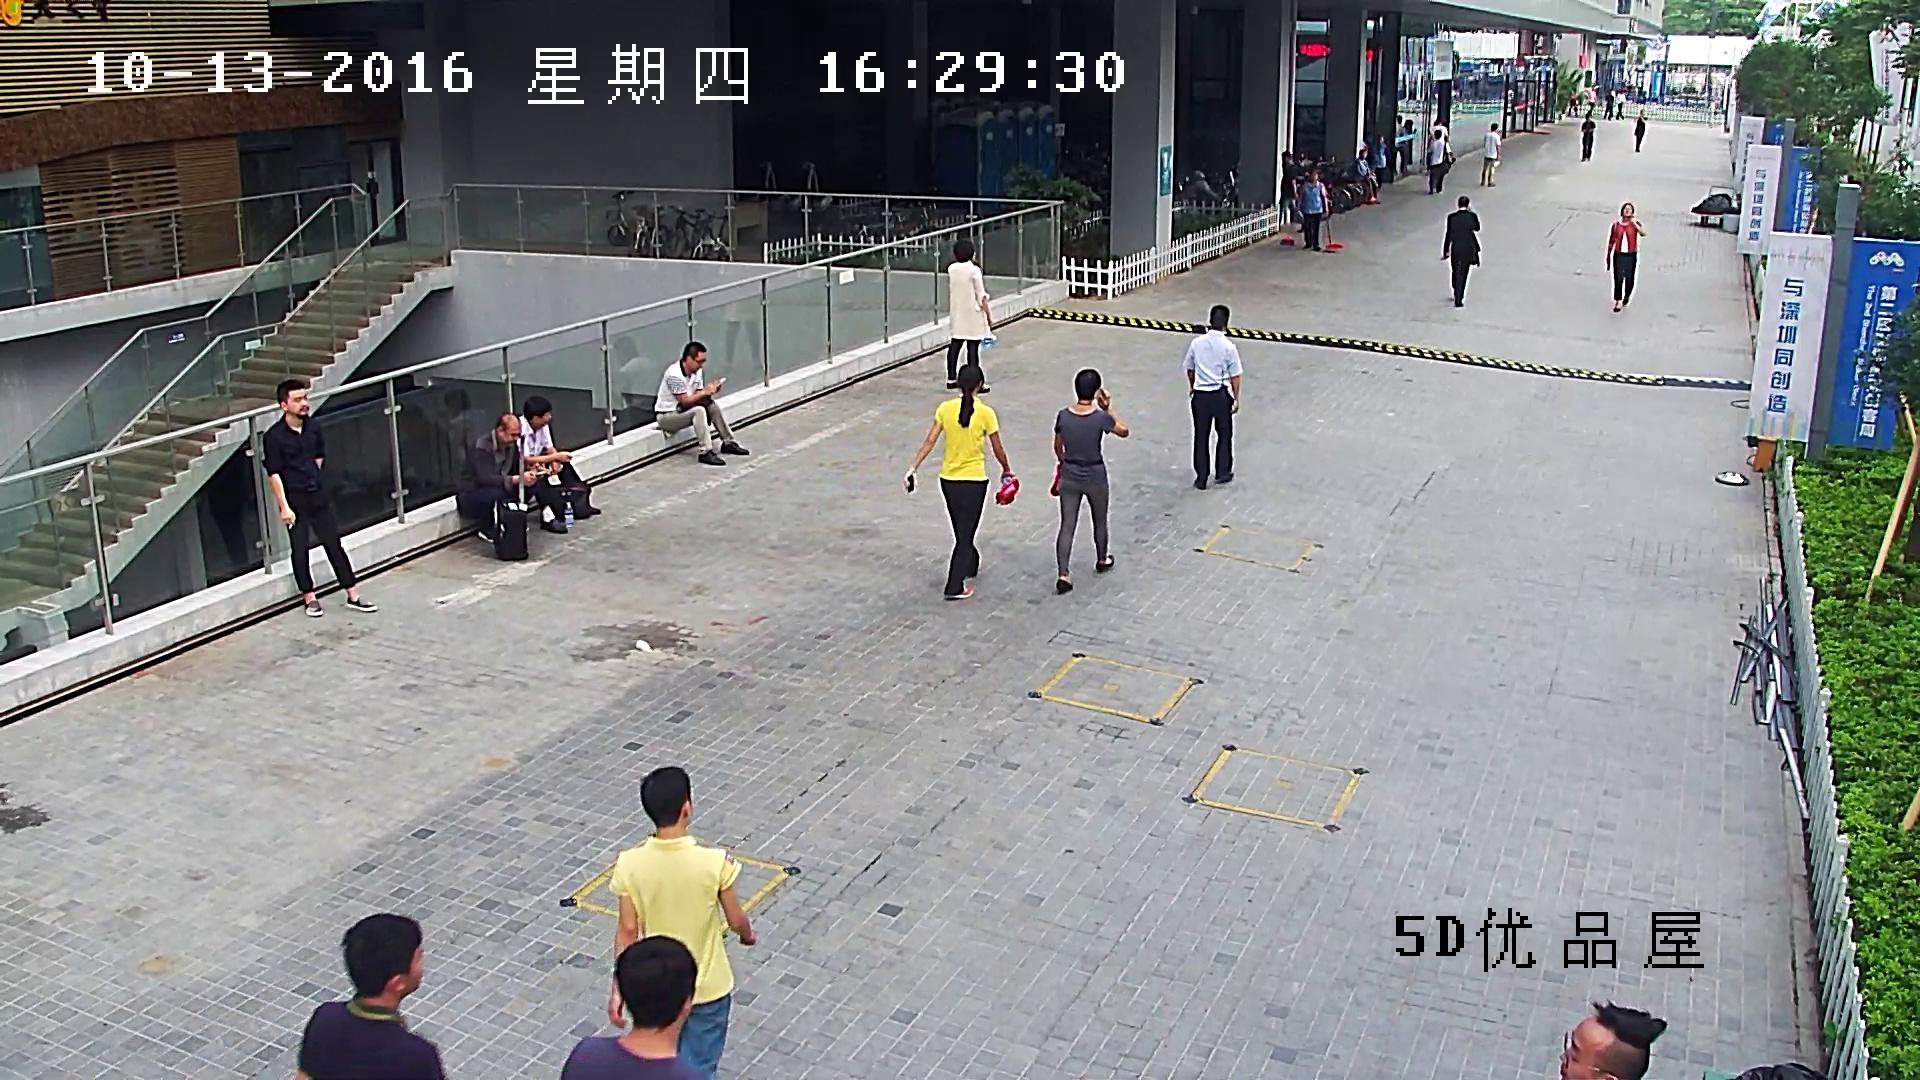person: (605, 764, 756, 1079), (901, 361, 1020, 601), (286, 908, 454, 1080), (260, 379, 378, 618), (554, 932, 711, 1080), (1048, 366, 1130, 594), (455, 411, 548, 561), (653, 339, 751, 467), (512, 395, 602, 534), (1181, 303, 1244, 490), (941, 238, 997, 395), (1276, 171, 1345, 252), (1438, 194, 1481, 308), (1605, 199, 1648, 313), (1292, 170, 1333, 253), (1273, 150, 1303, 230), (1423, 128, 1453, 194), (1353, 149, 1380, 205), (1479, 122, 1501, 187), (1372, 134, 1392, 189), (1578, 112, 1596, 162), (1632, 109, 1647, 153), (1425, 118, 1450, 140), (1584, 84, 1597, 117), (1603, 88, 1615, 121), (1615, 89, 1627, 121), (1566, 88, 1578, 117)
